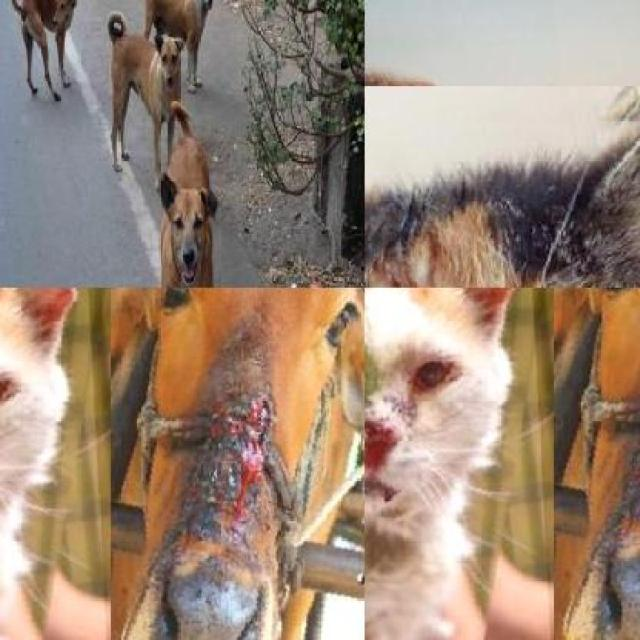cat: (364, 287, 553, 640), (364, 86, 640, 287), (0, 287, 111, 640), (364, 0, 602, 86)
cow: (110, 287, 364, 640), (554, 287, 640, 640)
dog: (106, 0, 186, 162), (152, 126, 218, 288), (9, 0, 77, 100), (146, 0, 213, 92)
injured: (178, 380, 318, 628), (365, 358, 400, 458)
